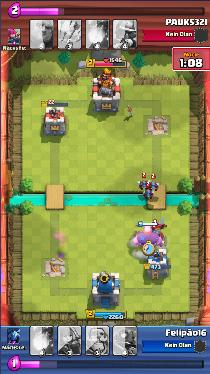ally_giant: (132, 227, 164, 249)
enemy_knight: (148, 222, 166, 230)
enemy_minion: (142, 189, 155, 198), (139, 180, 148, 188), (151, 182, 158, 190)
